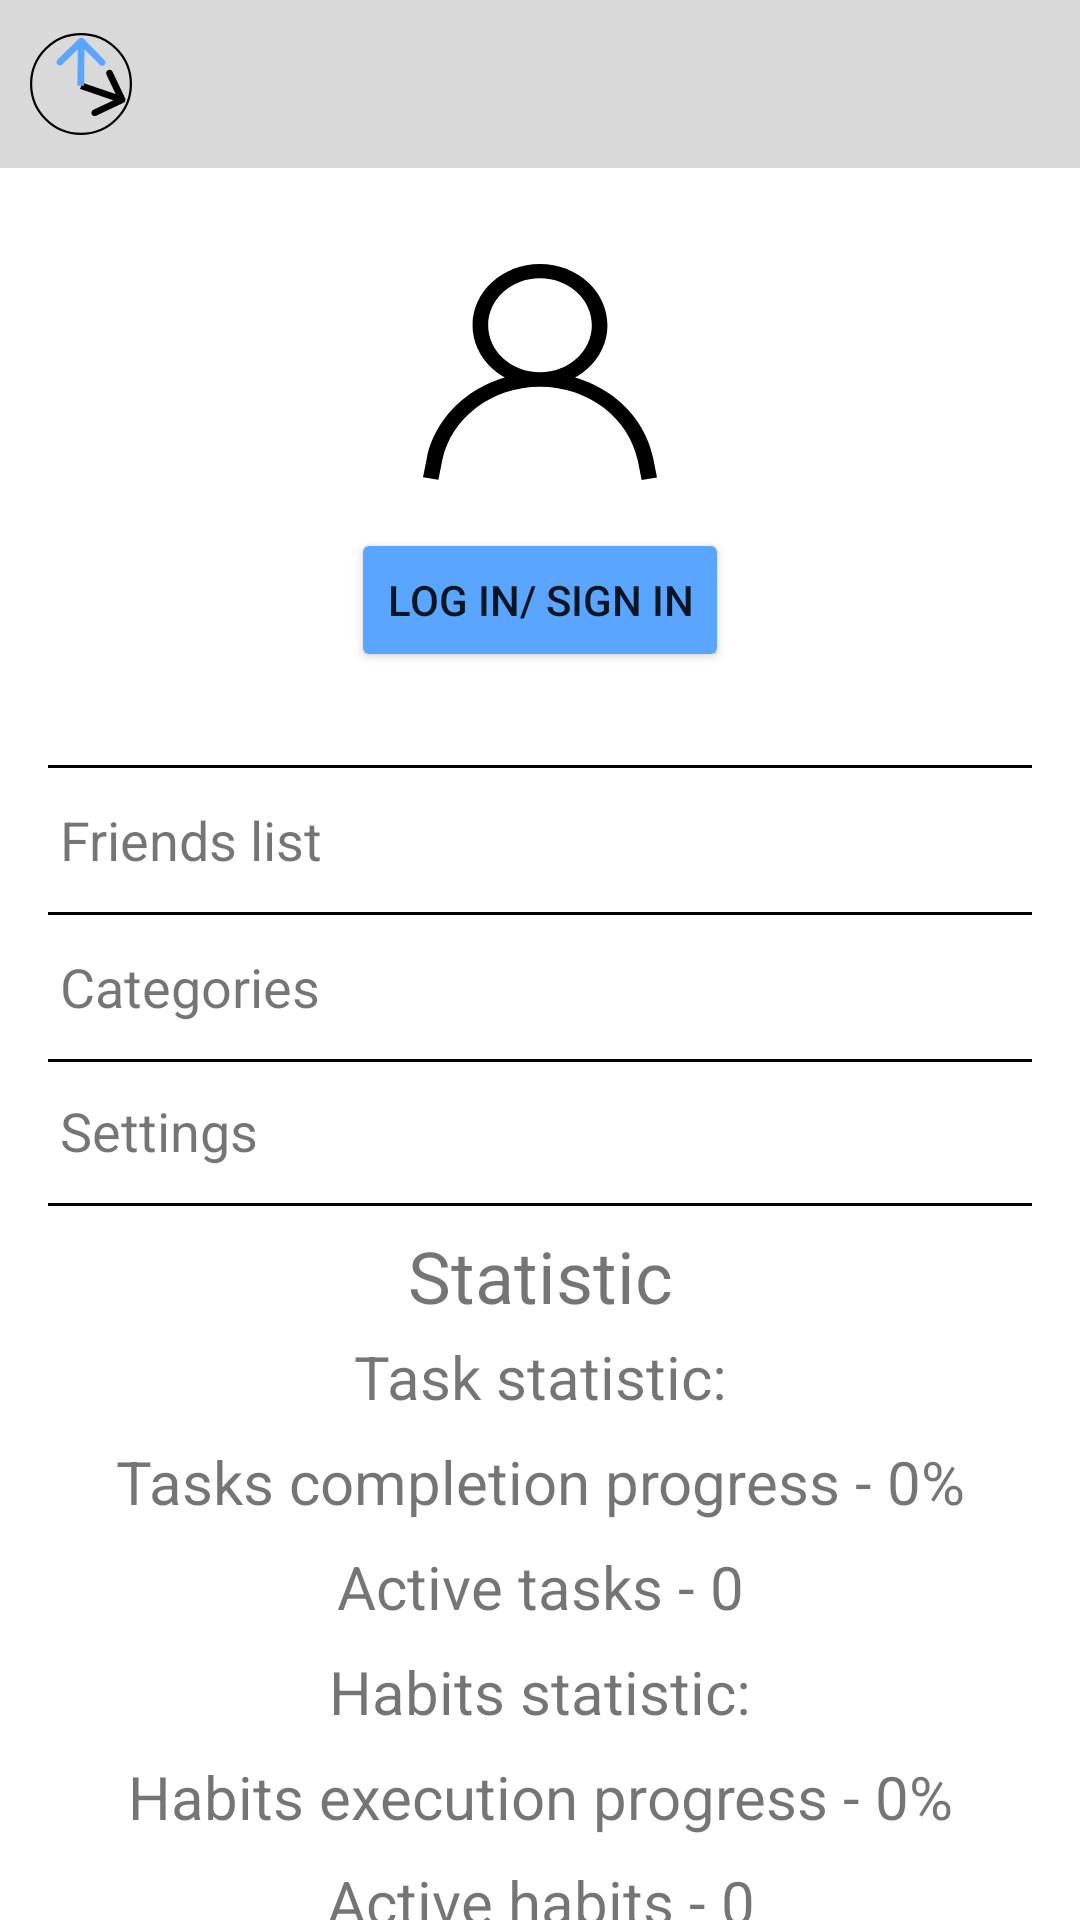

Icons on this 1080w x 1920h Android screen, each with the point to tap as (x=x, y=y):
account: (x=540, y=372)
